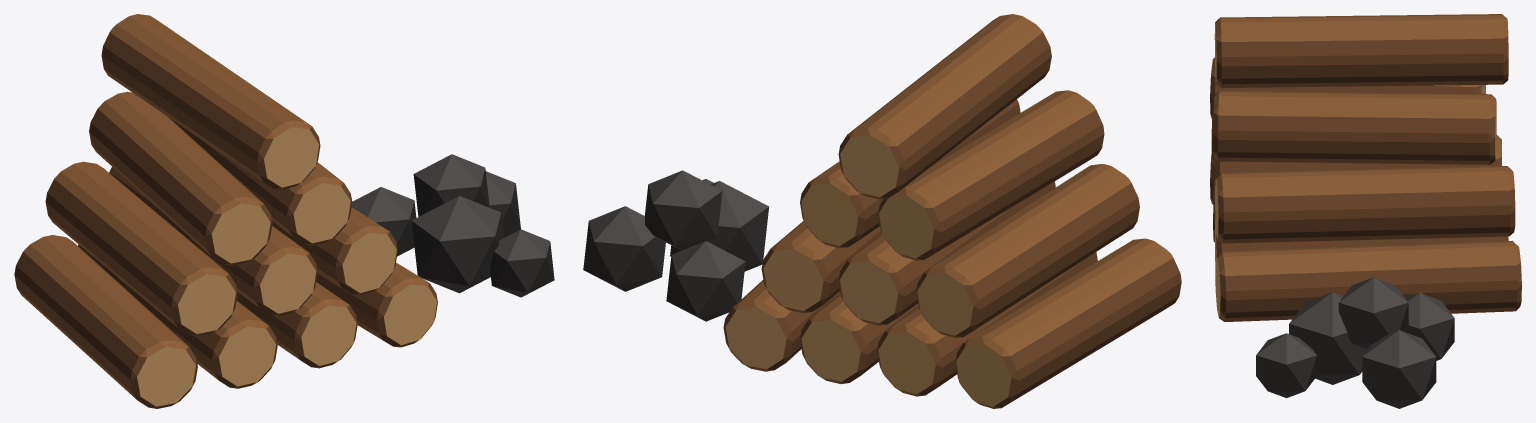
Rendered from lenha.fbx.
3 views of the same model, side by side, from view 1: azimuth 30°, elevation 25°; view 2: azimuth 150°, elevation 25°; view 3: azimuth 270°, elevation 25° (orthographic). The views are drawn at different scales.
Parts seen in each view (by area): view 1: lenha; view 2: lenha; view 3: lenha.
Part boxes in pixels (x1,y1,x2,y2): lenha: (14,14,554,408); lenha: (583,14,1181,408); lenha: (1210,14,1521,408).
Bounding box in the file's own units: 103 × 55.46 × 60.84.
